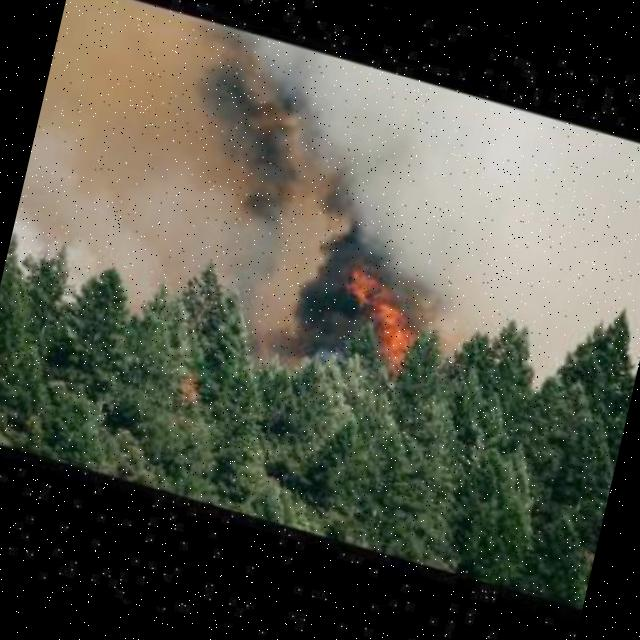fire: (317, 258, 442, 378)
